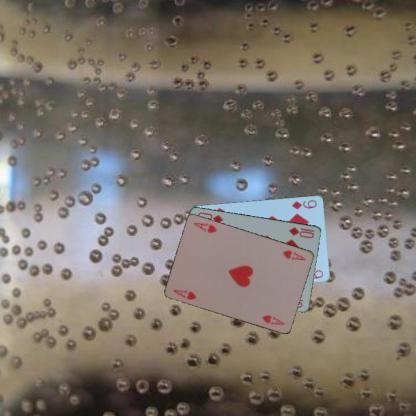10d: (287, 224, 316, 239)
9d: (289, 197, 318, 210)
Ah: (280, 247, 307, 262), (170, 287, 198, 301)
